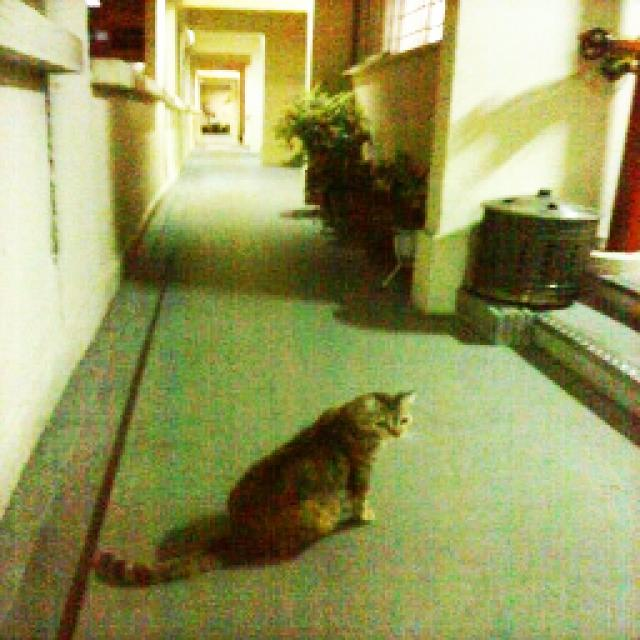cat: (69, 330, 439, 599)
